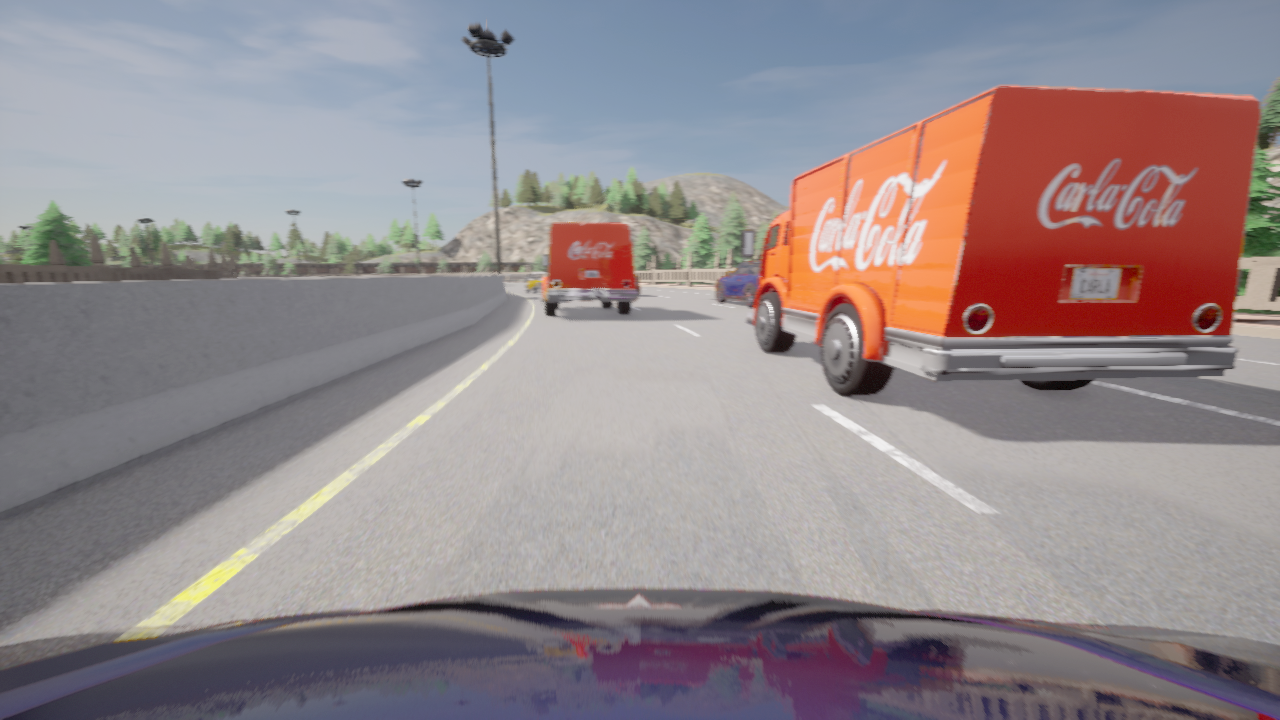cyclist: (0, 588, 1279, 719), (742, 85, 1260, 395), (541, 222, 638, 316), (716, 260, 761, 306), (526, 271, 545, 292), (634, 274, 639, 295)
